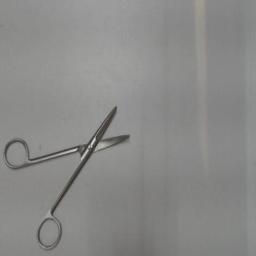Curved Mayo Scissors: (2, 98, 136, 254)
